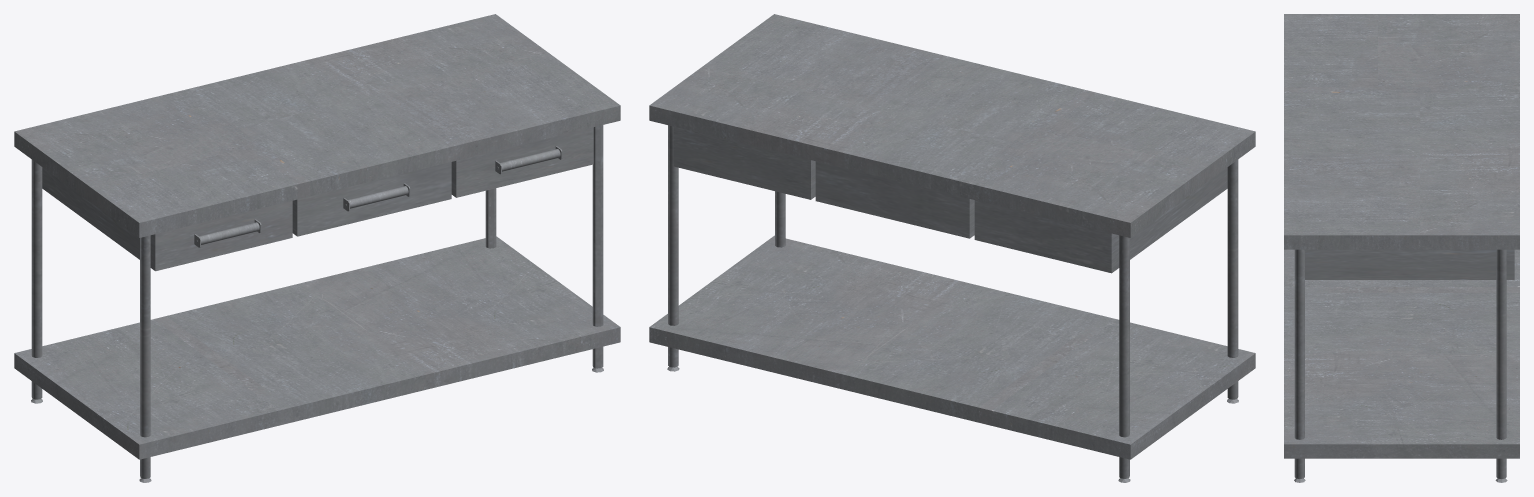
The model's file is BJW_KitchenBench_w-draws.fbx.
The picture shows the model from 3 angles, left to right: view 1: azimuth 30°, elevation 25°; view 2: azimuth 150°, elevation 25°; view 3: azimuth 270°, elevation 25°; orthographic projection. The views are drawn at different scales.
Visible parts, largest first — view 1: KitchenBench_w_draws; view 2: KitchenBench_w_draws; view 3: KitchenBench_w_draws.
Part boxes in pixels (x1,y1,x2,y2): KitchenBench_w_draws: (14, 14, 620, 482); KitchenBench_w_draws: (649, 14, 1255, 482); KitchenBench_w_draws: (1284, 14, 1519, 482).
Bounding box in the file's own units: 200 × 106 × 90.
